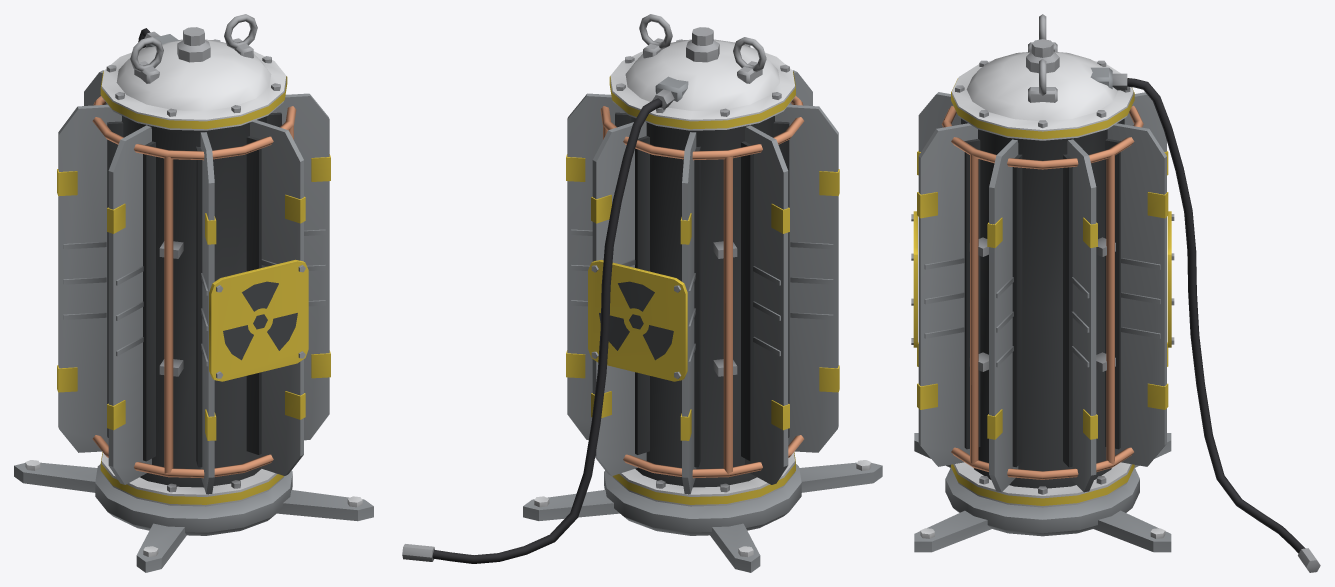
The model's file is rtg.glb.
3 renders of one model, left to right at view 1: azimuth 30°, elevation 25°; view 2: azimuth 150°, elevation 25°; view 3: azimuth 270°, elevation 25°, orthographic. The views are drawn at different scales.
Visible parts, largest first — view 1: rtg_mesh; view 2: rtg_mesh; view 3: rtg_mesh.
Part boxes in pixels (<box>): rtg_mesh: <box>14,14,373,572</box>; rtg_mesh: <box>402,14,882,572</box>; rtg_mesh: <box>911,14,1320,572</box>.
Bounding box in the file's own units: 0.7363 × 1.2 × 0.9684.
